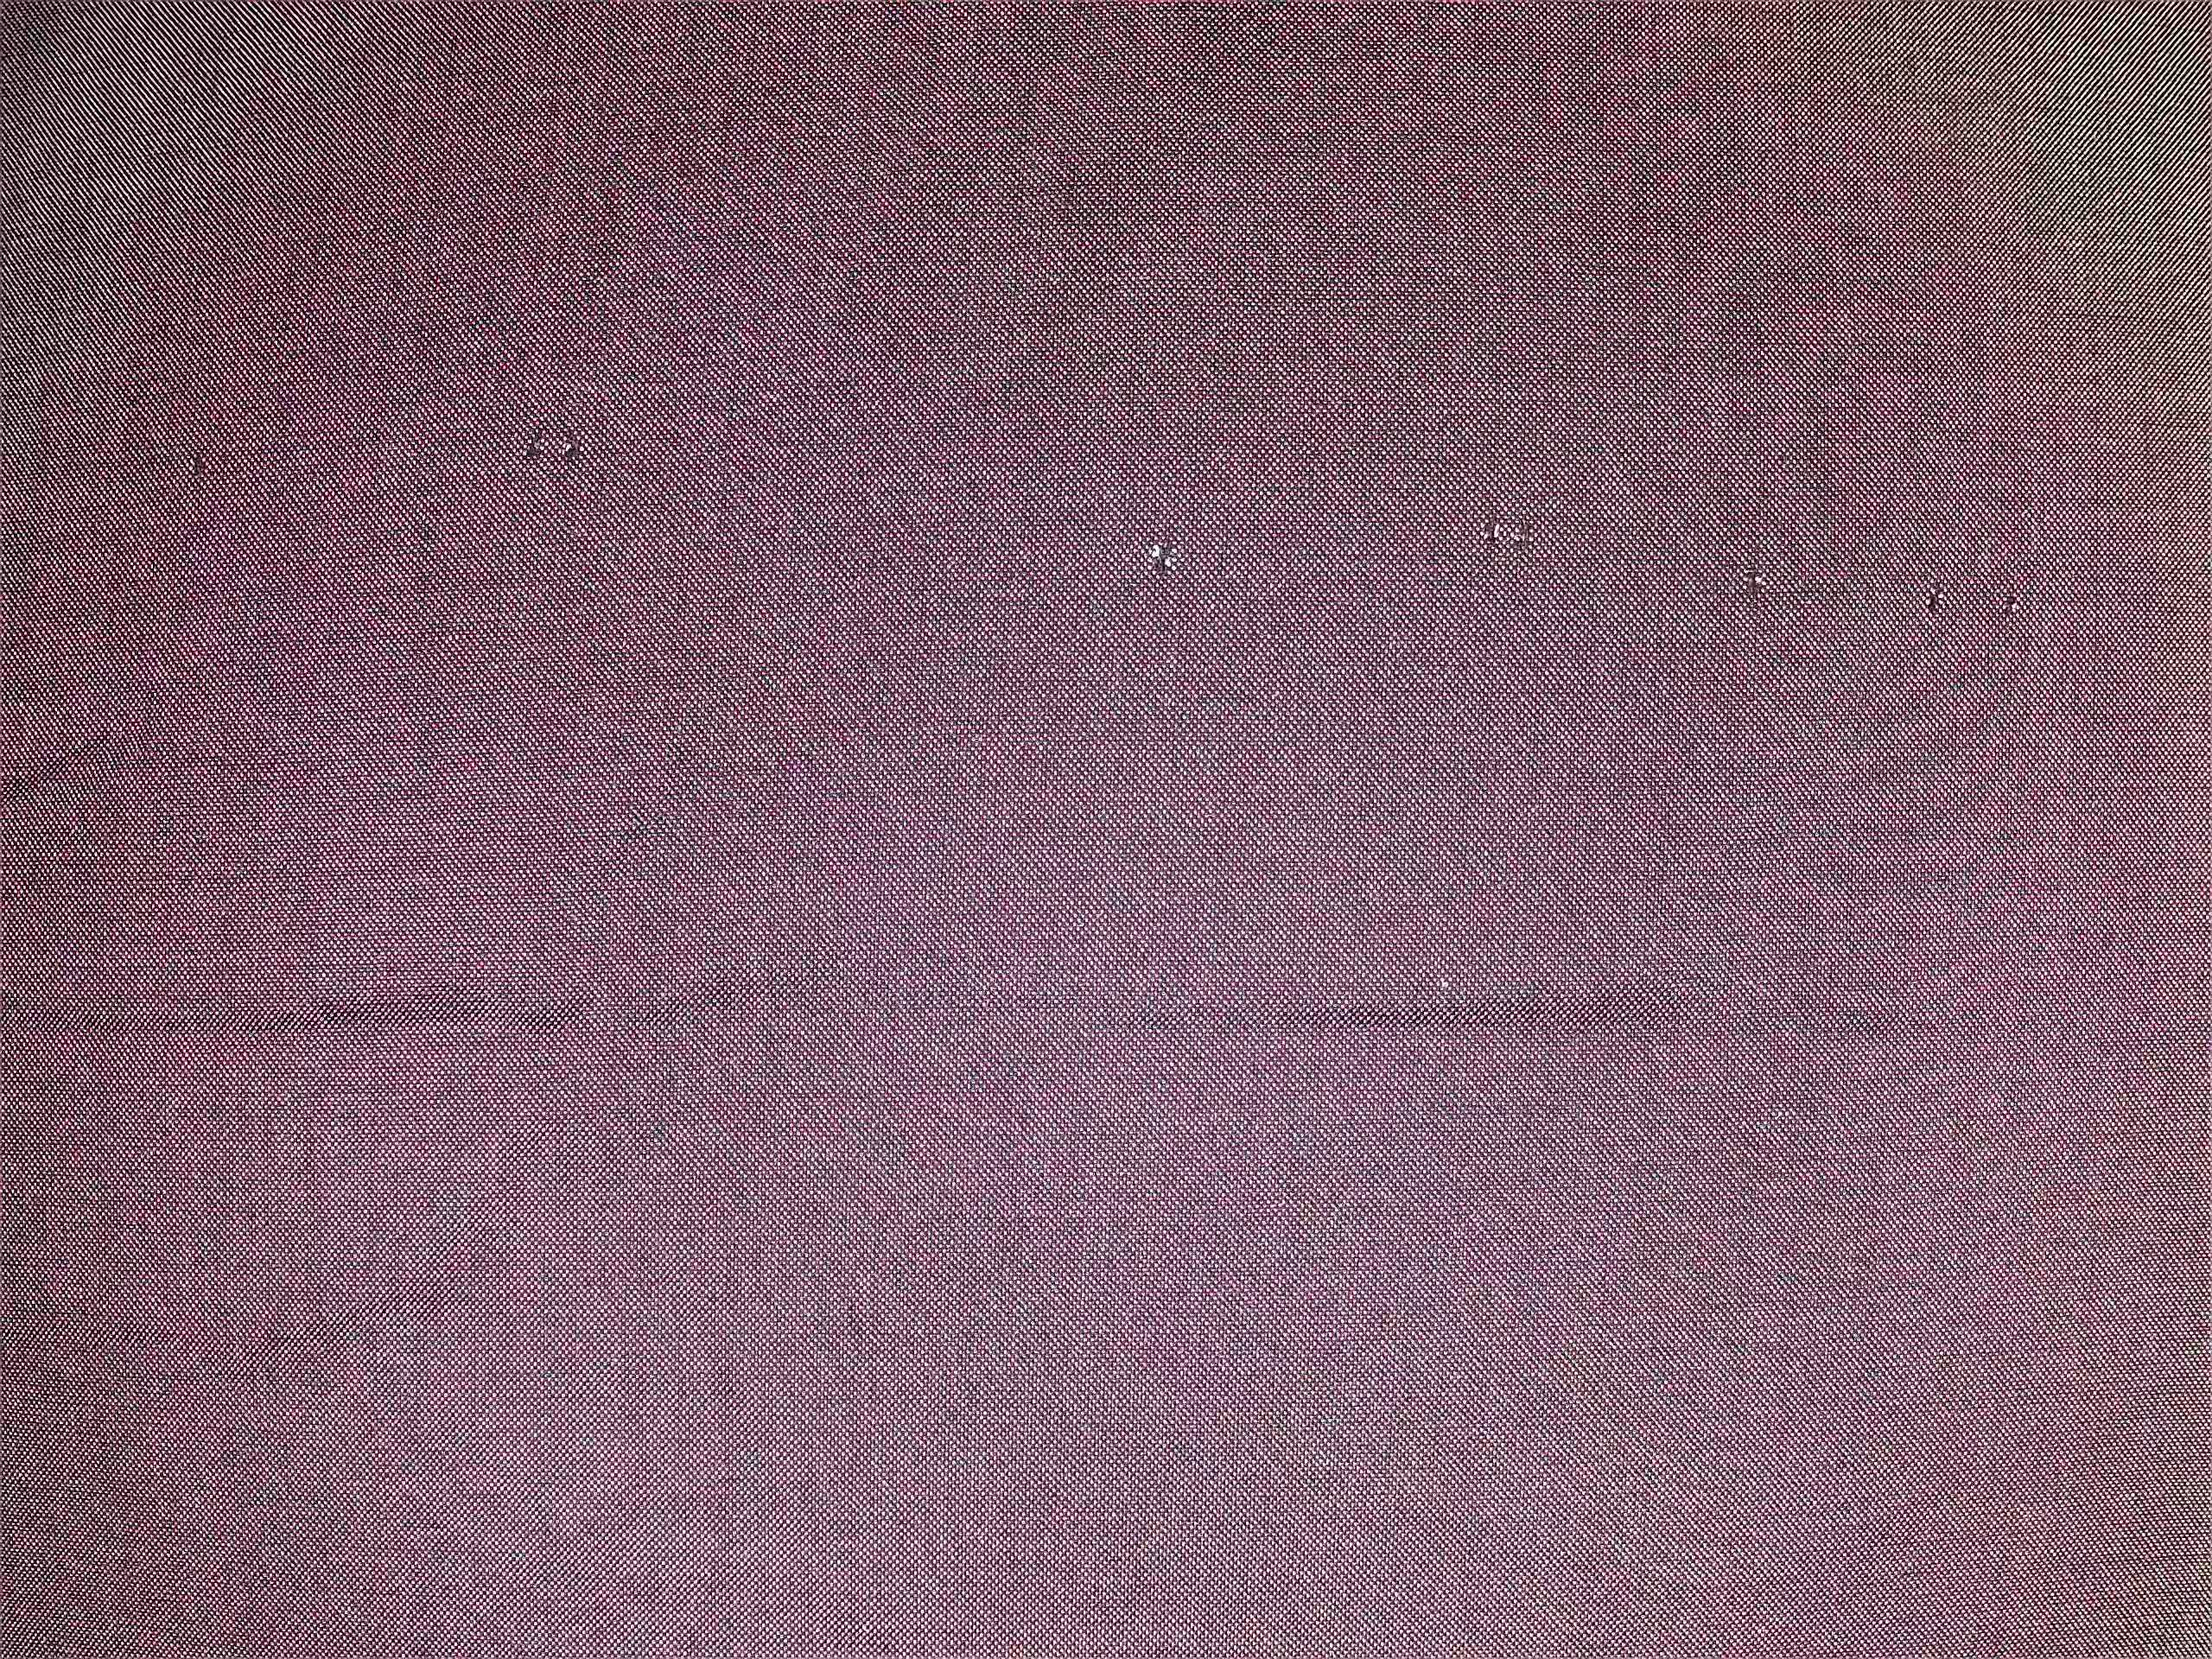rubbing-hole: (1907, 566, 2045, 636), (498, 404, 604, 483), (1458, 491, 1552, 575), (1129, 509, 1207, 592), (165, 422, 232, 502), (1721, 545, 1782, 615)
